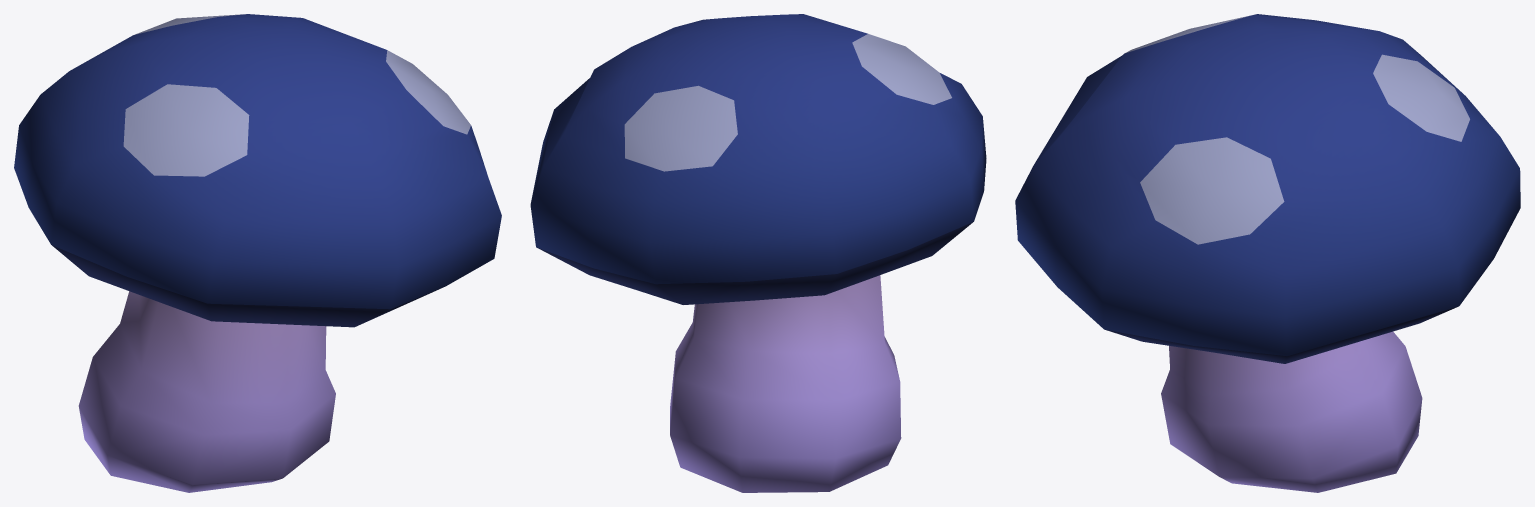
Rendered from BlueShroom2.fbx.
3 renders of one model, left to right at view 1: azimuth 30°, elevation 25°; view 2: azimuth 150°, elevation 25°; view 3: azimuth 270°, elevation 25°, orthographic. The views are drawn at different scales.
Visible parts, largest first — view 1: Sphere.101; view 2: Sphere.101; view 3: Sphere.101.
Boxes of the visible parts, x1,y1,x2,y2 form: Sphere.101: [14, 14, 501, 492]; Sphere.101: [530, 14, 986, 492]; Sphere.101: [1015, 14, 1520, 492].
Bounding box in the file's own units: 106 × 106 × 95.32.
